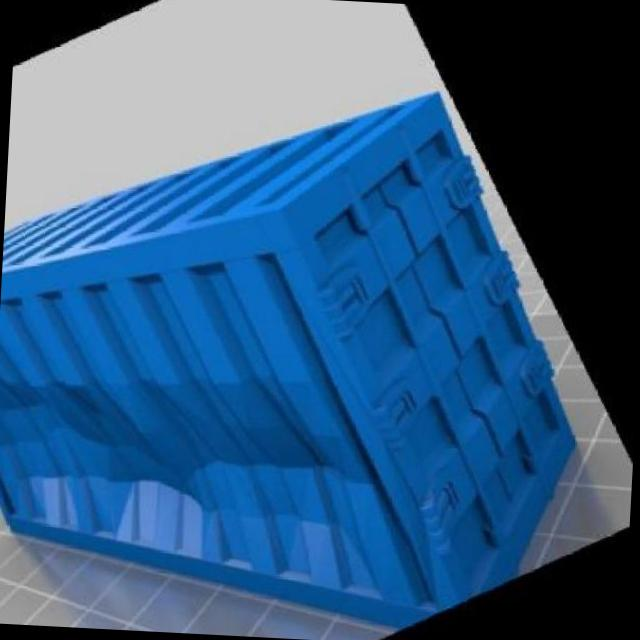Deframe_or_Dent: (4, 359, 340, 489)
